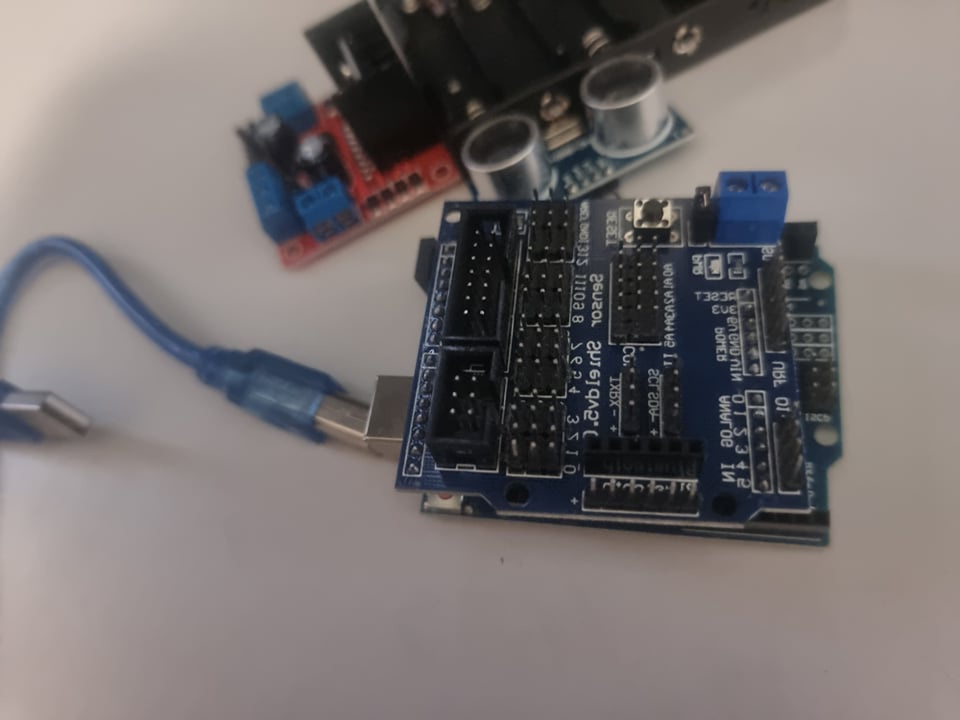5V EXPANSION: (413, 170, 791, 493)
MOTOR: (243, 3, 449, 263)
SENSOR: (471, 59, 683, 208)
